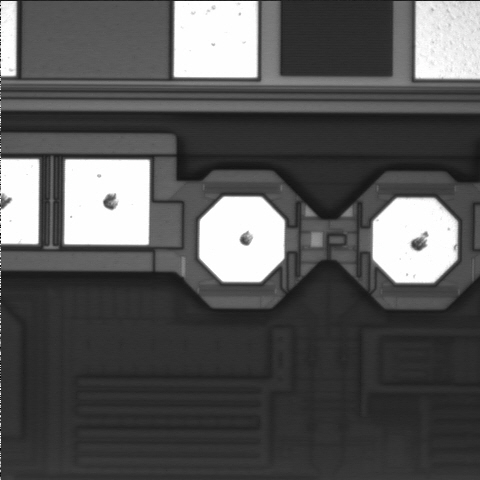pad: (64, 160, 150, 245), (199, 197, 285, 282), (373, 198, 457, 283)
